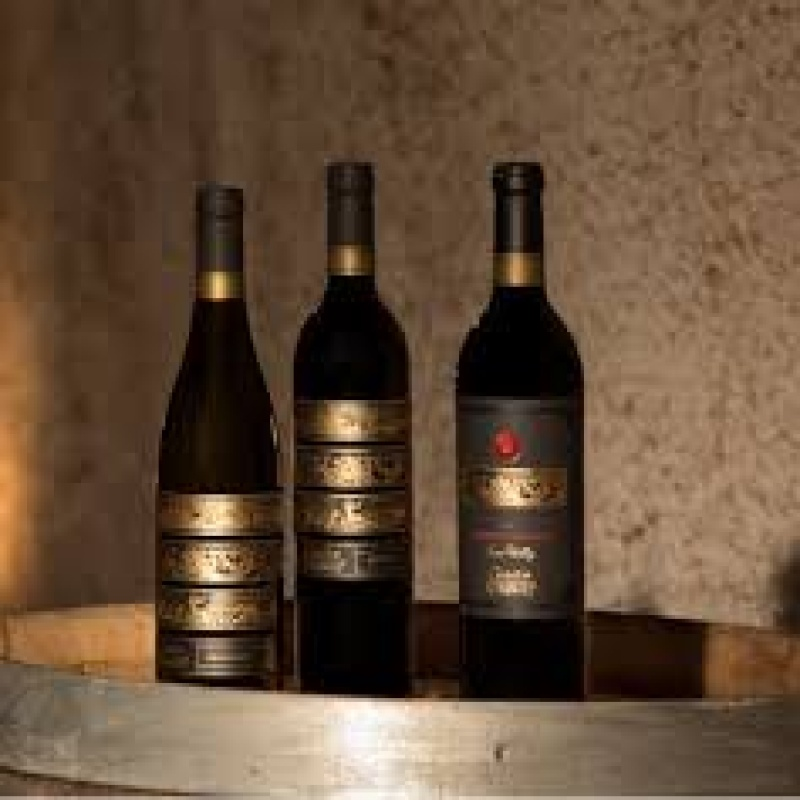wine: (458, 166, 597, 710), (152, 178, 286, 688), (299, 161, 420, 692)
